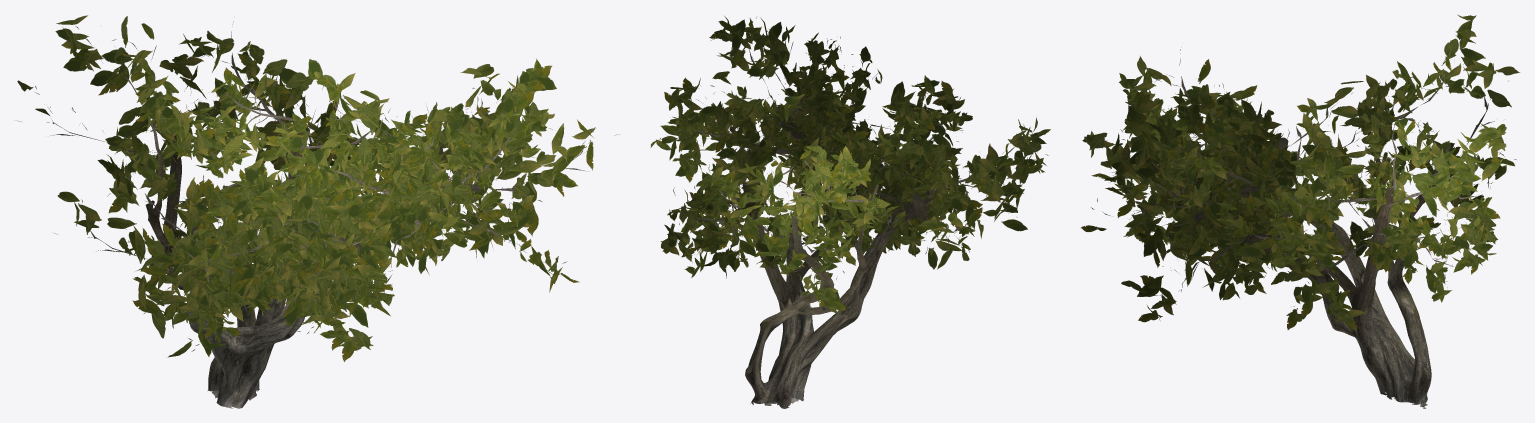
The model's file is tree_oak_tall.glb.
3 renders of one model, left to right at view 1: azimuth 30°, elevation 25°; view 2: azimuth 150°, elevation 25°; view 3: azimuth 270°, elevation 25°, orthographic. The views are drawn at different scales.
Visible parts, largest first — view 1: oak_tall; view 2: oak_tall; view 3: oak_tall.
Boxes of the visible parts, bbox=[...] form: oak_tall: bbox=[17, 15, 620, 408]; oak_tall: bbox=[651, 16, 1050, 408]; oak_tall: bbox=[1081, 14, 1519, 408].
Size of the model in its own units: 10.76 by 8.93 by 10.67.
3 materials, 3 textured.
